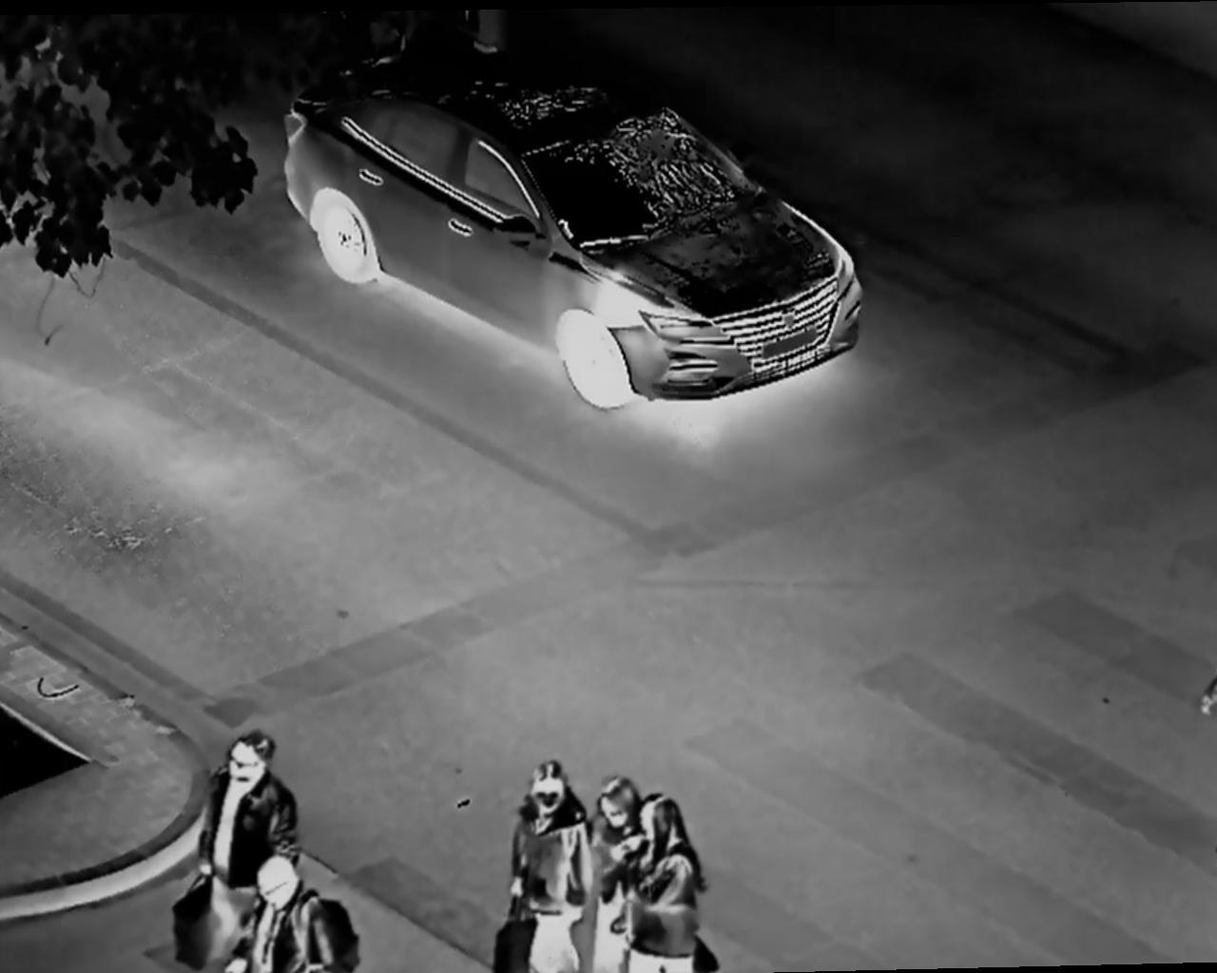person: (203, 730, 290, 946), (503, 761, 584, 973), (638, 787, 721, 973), (238, 853, 340, 973), (586, 773, 647, 961)
